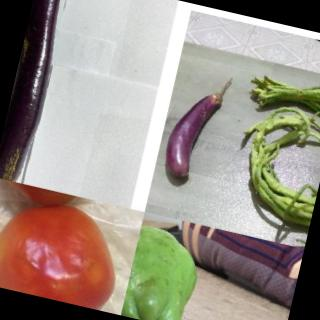Tomat: (1, 177, 133, 312)
